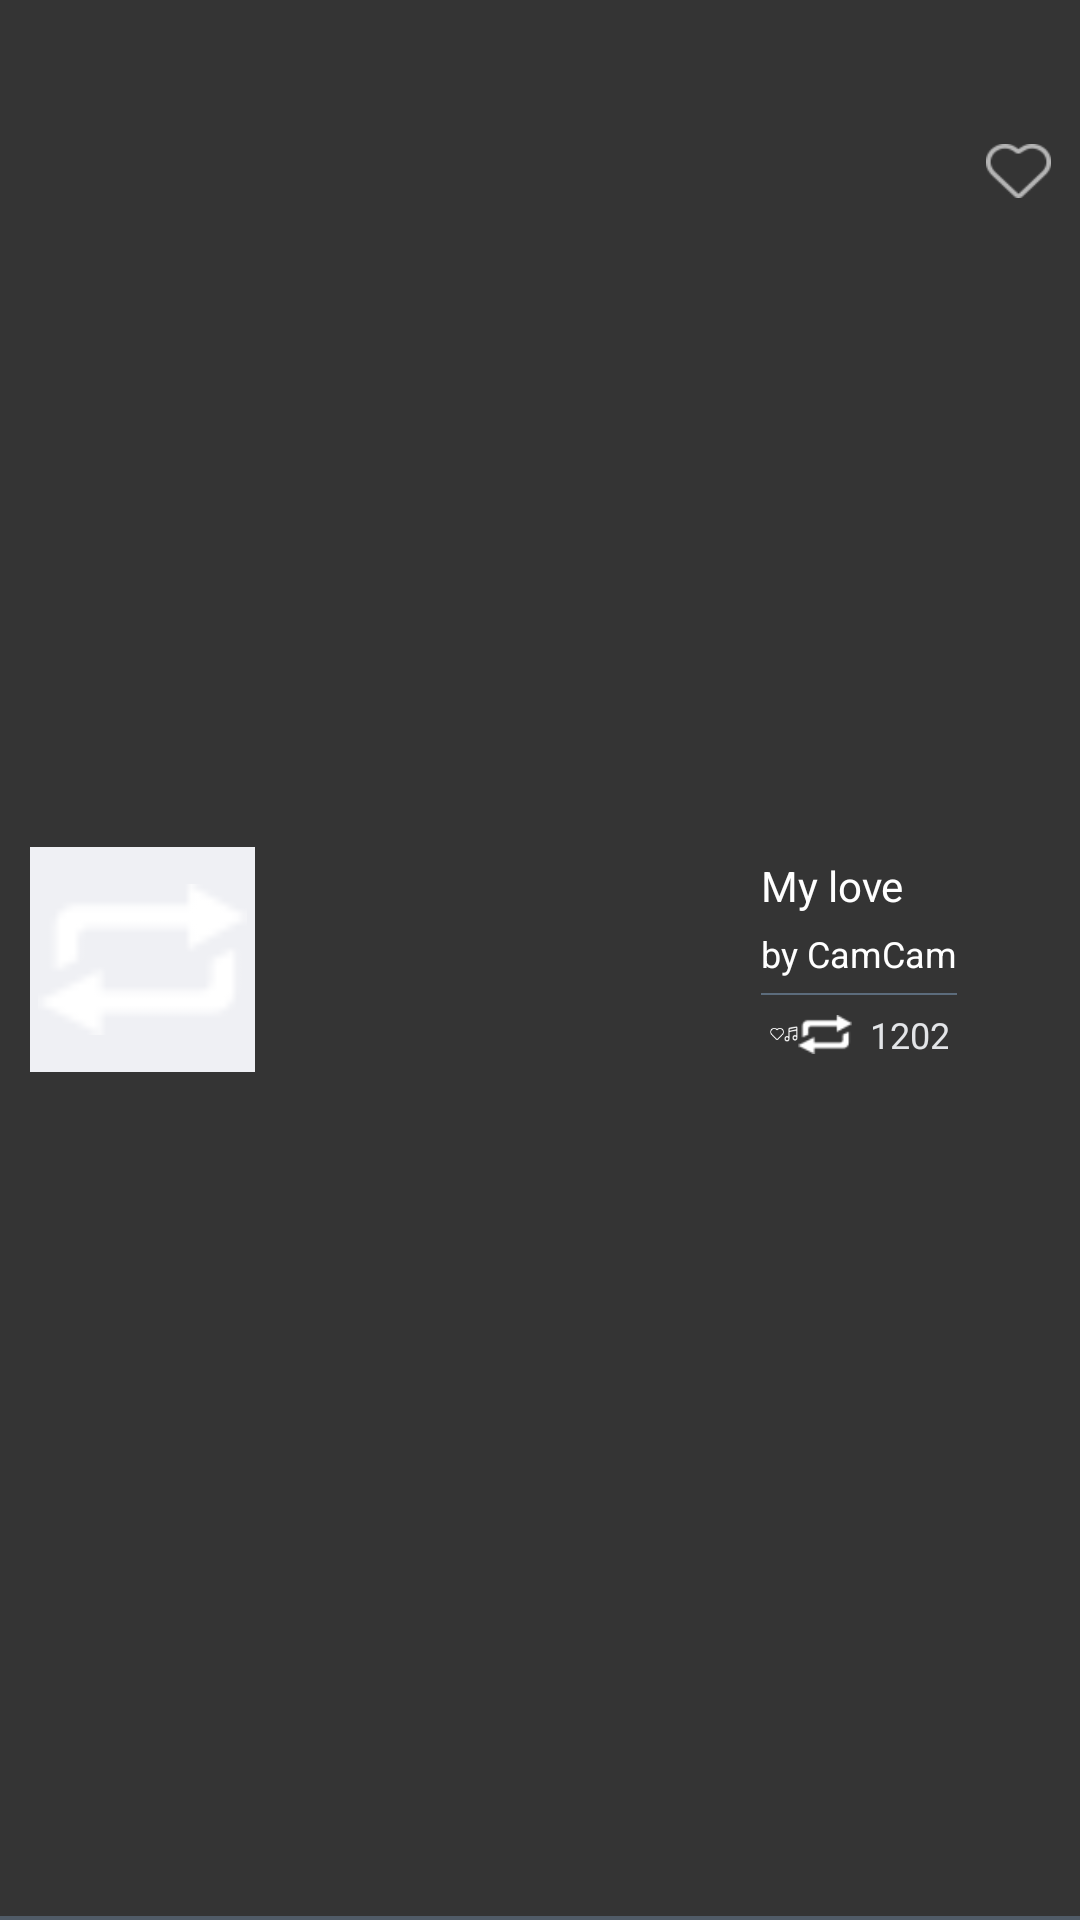

Where to tap for icons on this 1080 × 1920 app screen, as (x,y):
heart: (1018,171)
repeat: (825,1034)
